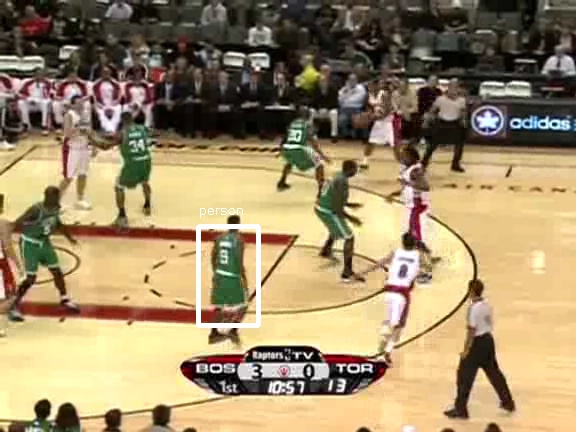person: (213, 231, 247, 312), (212, 231, 246, 312), (214, 231, 248, 312), (213, 230, 247, 311), (213, 232, 247, 313)
target_negative: (148, 3, 384, 182), (264, 75, 431, 314), (193, 287, 327, 385), (197, 341, 371, 388), (457, 220, 475, 379), (336, 396, 517, 399)
